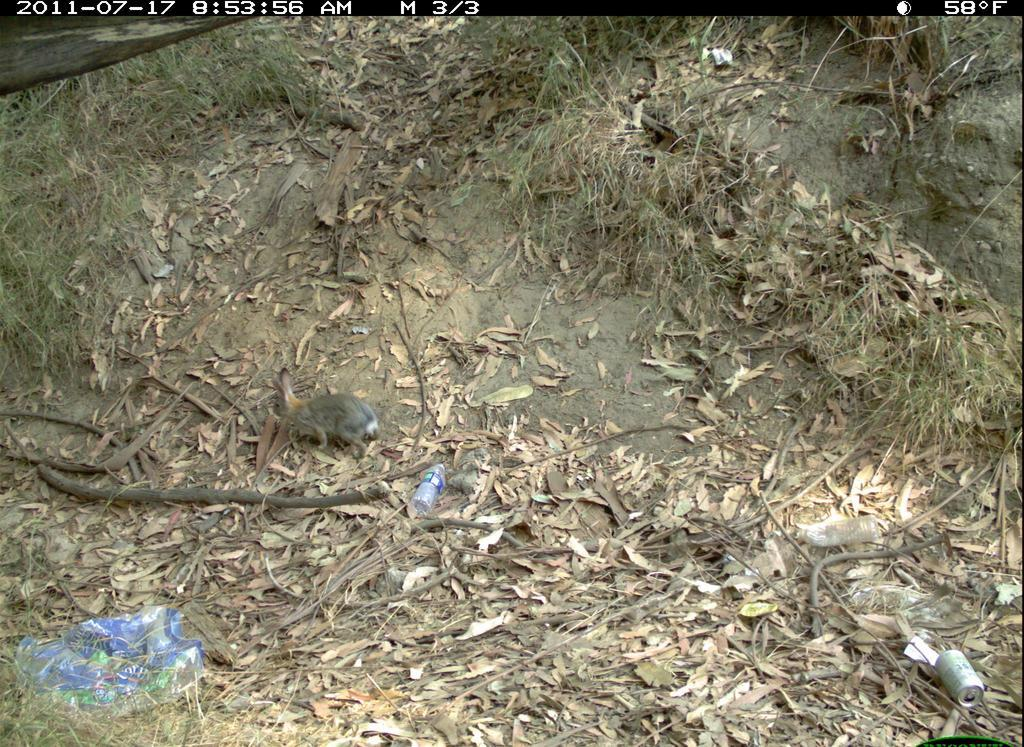rabbit: (269, 365, 381, 464)
